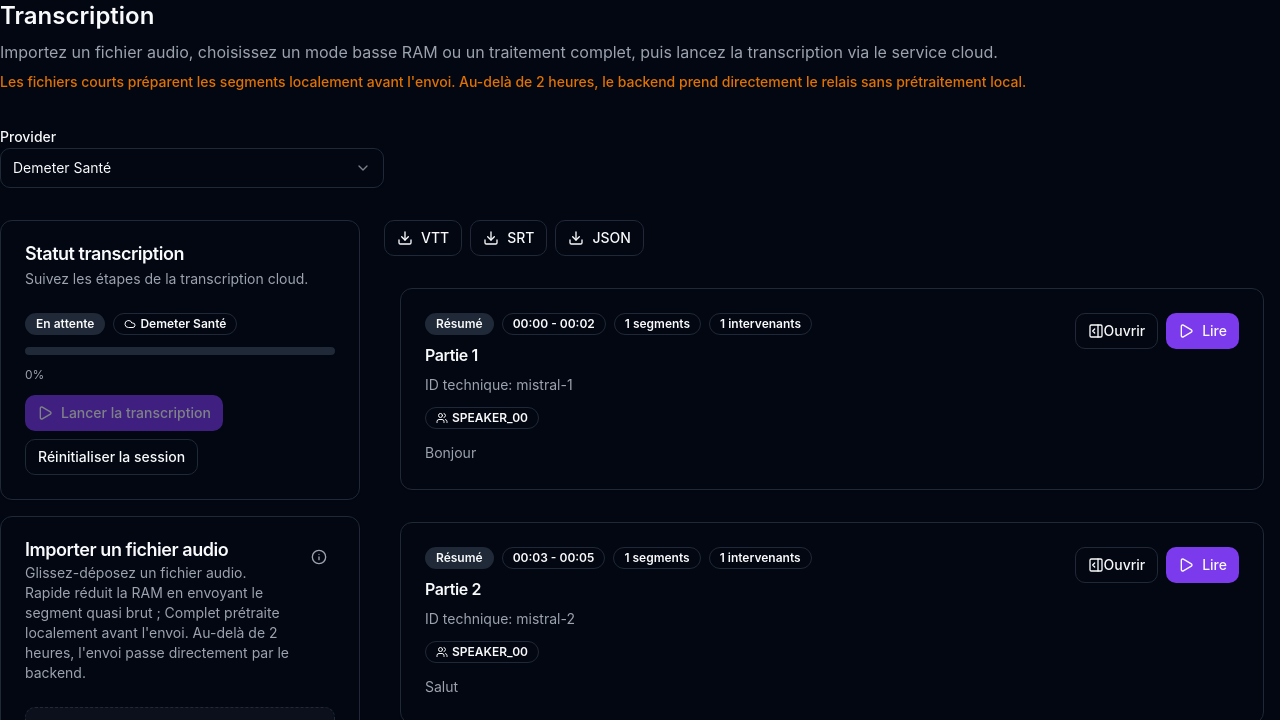
Test: CloudUploadPage › does not expose global speaker assignment in cloud mode
This screenshot has width=1280, height=720.
Expected: the button "Nommer les intervenants" is not shown
Expected: the button "Nommer les intervenants de la partie" is not shown
Click the button "Ouvrir" in the row of "00:00 - 00:02" at (1116, 331), box [1074,313,1158,349]
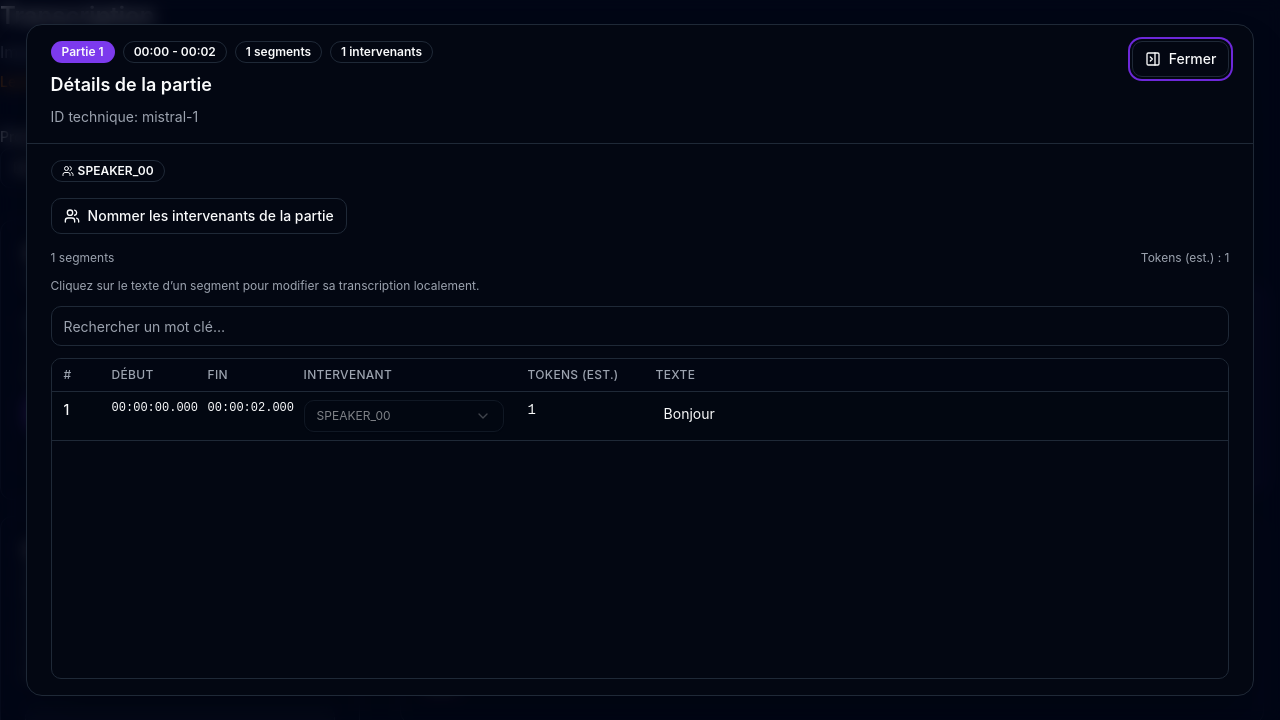
Expected: the button "Nommer les intervenants de la partie" is shown, [51,198,347,234]
